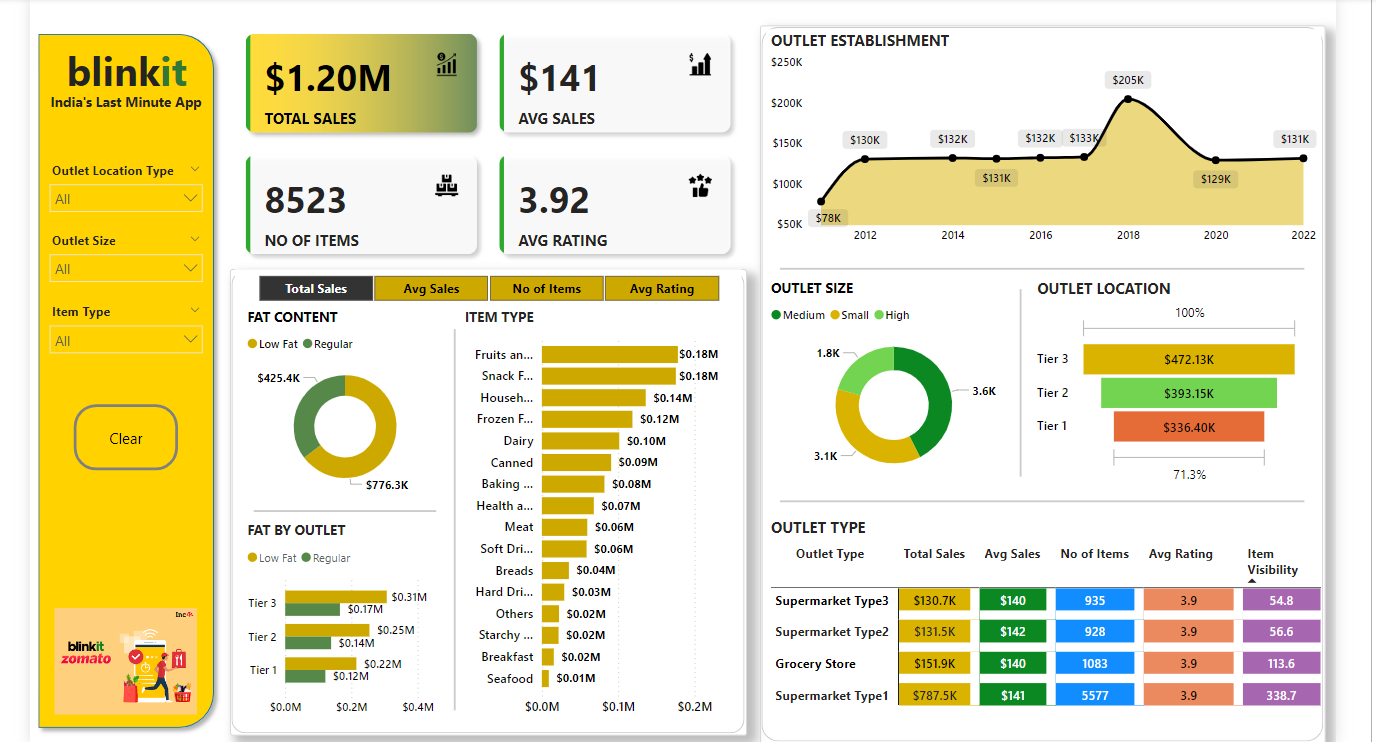

What the dashboard file says about the page in this screenshot:
{"tool":"powerbi","page":{"name":"blinkit_sales_dashboard","canvas":[1400,800],"ordinal":0},"visuals":[{"type":"shape","box":[0,29.9,206.3,762.2],"z":0},{"type":"textbox","box":[23.6,42.5,159.1,74],"z":1000},{"type":"textbox","box":[11,96.1,184.3,39.4],"z":2000},{"type":"cardVisual","fields":{"Data":["BlinkIT Grocery Data.Total Sales","BlinkIT Grocery Data.Avg Sales","BlinkIT Grocery Data.No of Items","BlinkIT Grocery Data.Avg Rating"]},"box":[214.3,21.4,555.7,270],"z":3000},{"type":"shape","box":[215,291,554,500],"z":4000},{"type":"donutChart","title":"FAT CONTENT","fields":{"Y":["BlinkIT Grocery Data.Avg Rating"],"Category":["BlinkIT Grocery Data.Item Fat Content"]},"box":[228.3,330.7,220.5,209.4],"z":5000},{"type":"slicer","fields":{"Values":["Metrics.Metrics"]},"box":[220,291.4,542.9,40],"z":6000},{"type":"clusteredBarChart","title":"FAT BY OUTLET","fields":{"Y":["BlinkIT Grocery Data.Avg Rating"],"Category":["BlinkIT Grocery Data.Outlet Location Type"],"Series":["BlinkIT Grocery Data.Item Fat Content"]},"box":[228.3,560.6,220.5,218.9],"z":7000},{"type":"shape","box":[240,540,195.7,20],"z":8000},{"type":"shape","box":[448.6,355.7,12.9,408.6],"z":9000},{"type":"clusteredBarChart","title":"ITEM TYPE ","fields":{"Y":["BlinkIT Grocery Data.Avg Rating"],"Category":["BlinkIT Grocery Data.Item Type"]},"box":[461.4,331.4,301.4,448.6],"z":10000},{"type":"shape","box":[782.7,29.9,606.3,770.1],"z":11000},{"type":"lineChart","title":"OUTLET ESTABLISHMENT","fields":{"Category":["BlinkIT Grocery Data.Outlet Establishment Year"],"Y":["BlinkIT Grocery Data.Total Sales"]},"box":[789,33.1,595.3,239.4],"z":12000},{"type":"shape","box":[804.7,280.3,562.2,20.5],"z":13000},{"type":"donutChart","title":"OUTLET SIZE","fields":{"Y":["CountNonNull(BlinkIT Grocery Data.Outlet Size)"],"Category":["BlinkIT Grocery Data.Outlet Size"]},"box":[789,300.8,274,225],"z":14000},{"type":"shape","box":[1056.3,312.3,12.1,201.1],"z":15000},{"type":"funnel","title":"OUTLET LOCATION","fields":{"Y":["BlinkIT Grocery Data.Total Sales"],"Category":["BlinkIT Grocery Data.Outlet Location Type"]},"box":[1075.6,300.8,291.3,225.2],"z":16000},{"type":"shape","box":[804.7,529.1,562.2,20.5],"z":17000},{"type":"pivotTable","title":"OUTLET TYPE","fields":{"Rows":["BlinkIT Grocery Data.Outlet Type"],"Values":["BlinkIT Grocery Data.Total Sales","BlinkIT Grocery Data.Avg Sales","BlinkIT Grocery Data.No of Items","BlinkIT Grocery Data.Avg Rating","Sum(BlinkIT Grocery Data.Item Visibility)"]},"box":[789,555.9,600,236.2],"z":18000},{"type":"slicer","fields":{"Values":["BlinkIT Grocery Data.Outlet Location Type"]},"box":[11,170.1,184.3,67.7],"z":19000},{"type":"slicer","fields":{"Values":["BlinkIT Grocery Data.Outlet Size"]},"box":[11,245.7,184.3,67.7],"z":20000},{"type":"slicer","fields":{"Values":["BlinkIT Grocery Data.Item Type"]},"box":[11,321.3,184.3,67.7],"z":21000},{"type":"actionButton","box":[47.2,436.2,111.8,70.9],"z":22000},{"type":"image","box":[22,629.9,162.2,162.2],"z":23000}]}

Visuals, with their boxes on the page's 1400x800 design canvas (x1, y1, x2, y2). These are canvas units, not pixel positions in the 1376x742 screenshot, which may show the page scaled, cropped or inside an application window:
shape: (0,30,206,792)
textbox: (24,42,183,116)
textbox: (11,96,195,136)
cardVisual - BlinkIT Grocery Data.Total Sales x BlinkIT Grocery Data.Avg Sales: (214,21,770,291)
shape: (215,291,769,791)
"FAT CONTENT" donutChart: (228,331,449,540)
slicer - Metrics.Metrics: (220,291,763,331)
"FAT BY OUTLET" clusteredBarChart: (228,561,449,780)
shape: (240,540,436,560)
shape: (449,356,462,764)
"ITEM TYPE " clusteredBarChart: (461,331,763,780)
shape: (783,30,1389,800)
"OUTLET ESTABLISHMENT" lineChart: (789,33,1384,272)
shape: (805,280,1367,301)
"OUTLET SIZE" donutChart: (789,301,1063,526)
shape: (1056,312,1068,513)
"OUTLET LOCATION" funnel: (1076,301,1367,526)
shape: (805,529,1367,550)
"OUTLET TYPE" pivotTable: (789,556,1389,792)
slicer - BlinkIT Grocery Data.Outlet Location Type: (11,170,195,238)
slicer - BlinkIT Grocery Data.Outlet Size: (11,246,195,313)
slicer - BlinkIT Grocery Data.Item Type: (11,321,195,389)
actionButton: (47,436,159,507)
image: (22,630,184,792)
